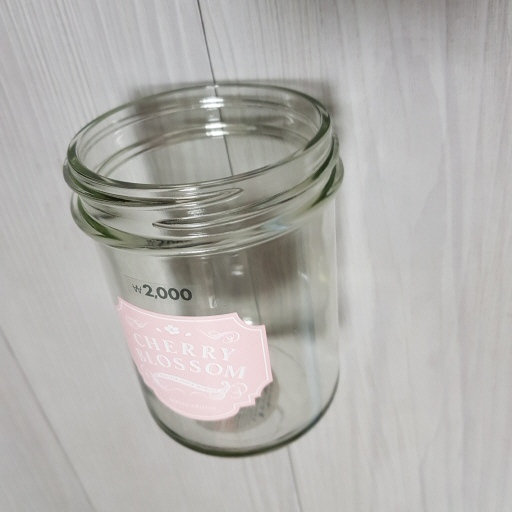Glass_5: (65, 84, 347, 454)
